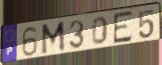0: (91, 15, 109, 47)
3: (68, 19, 85, 51)
5: (138, 8, 156, 40)
6: (21, 25, 39, 58)
E: (112, 9, 134, 46)
M: (41, 20, 67, 57)
